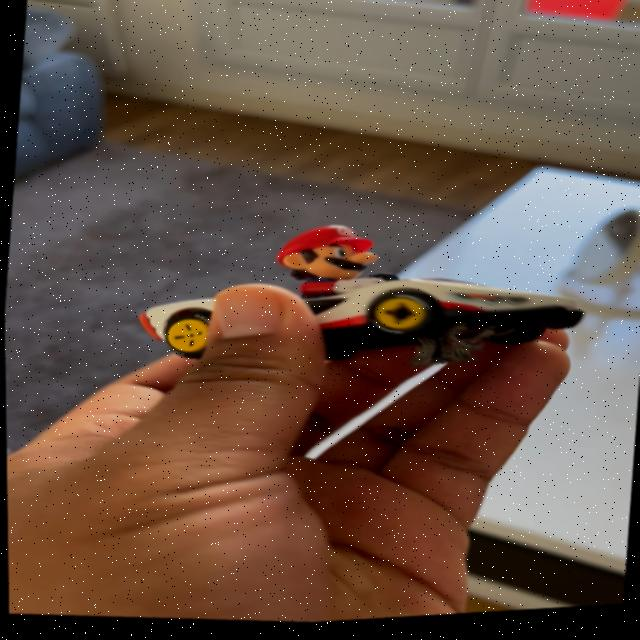mario: (117, 188, 640, 418)
